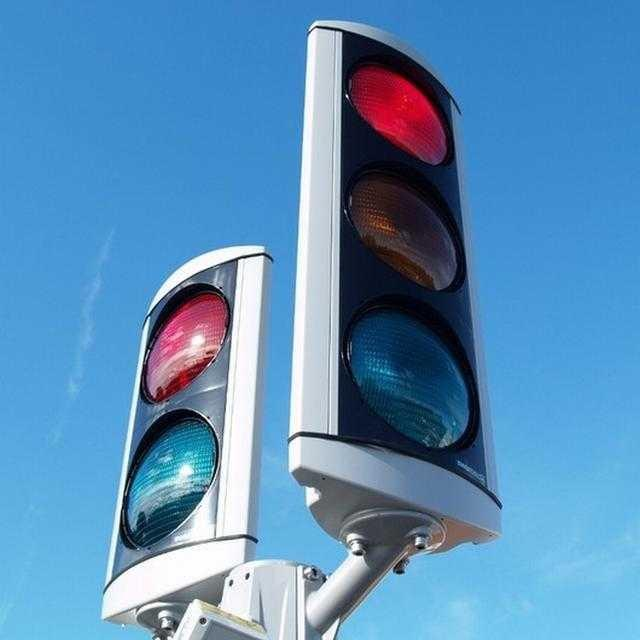red: (331, 25, 499, 517)
